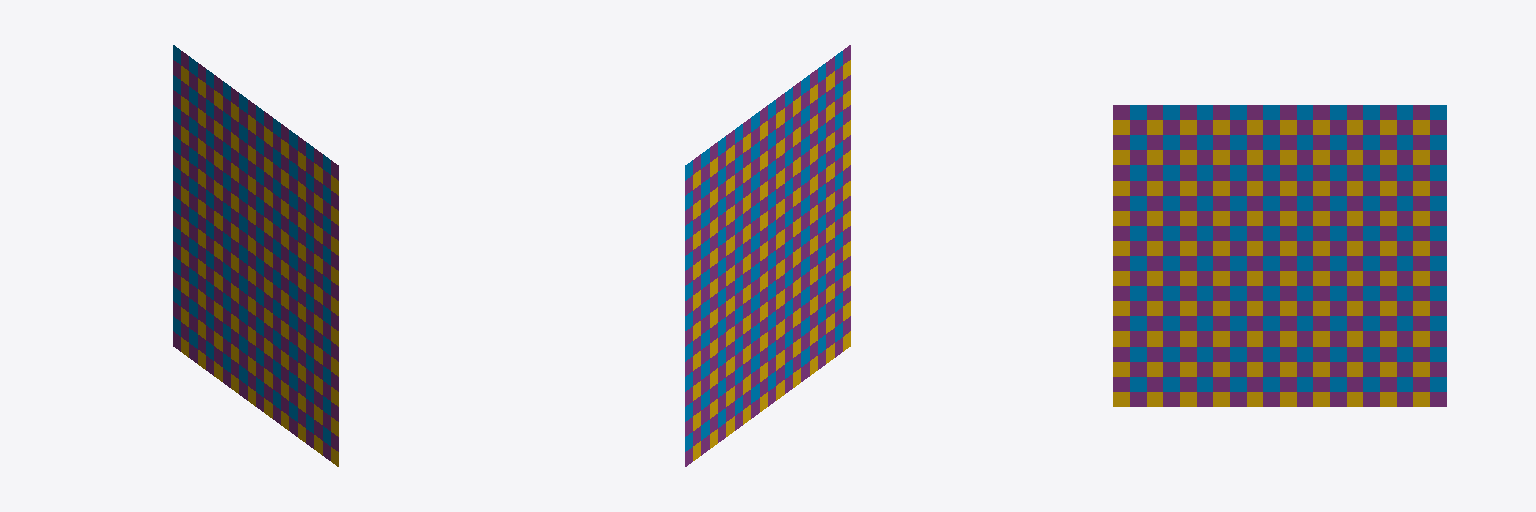
The picture shows the model from 3 angles: view 1: azimuth 30°, elevation 25°; view 2: azimuth 150°, elevation 25°; view 3: azimuth 270°, elevation 25°; orthographic projection.
Parts seen in each view (by area): view 1: Cube; view 2: Cube; view 3: Cube.
Boxes of the visible parts, x1,y1,x2,y2 form: Cube: [173, 45, 338, 466]; Cube: [685, 45, 850, 466]; Cube: [1113, 105, 1446, 406].
Size of the model in its own units: 0 by 1 by 1.
Materials: 1 (1 with a texture image).